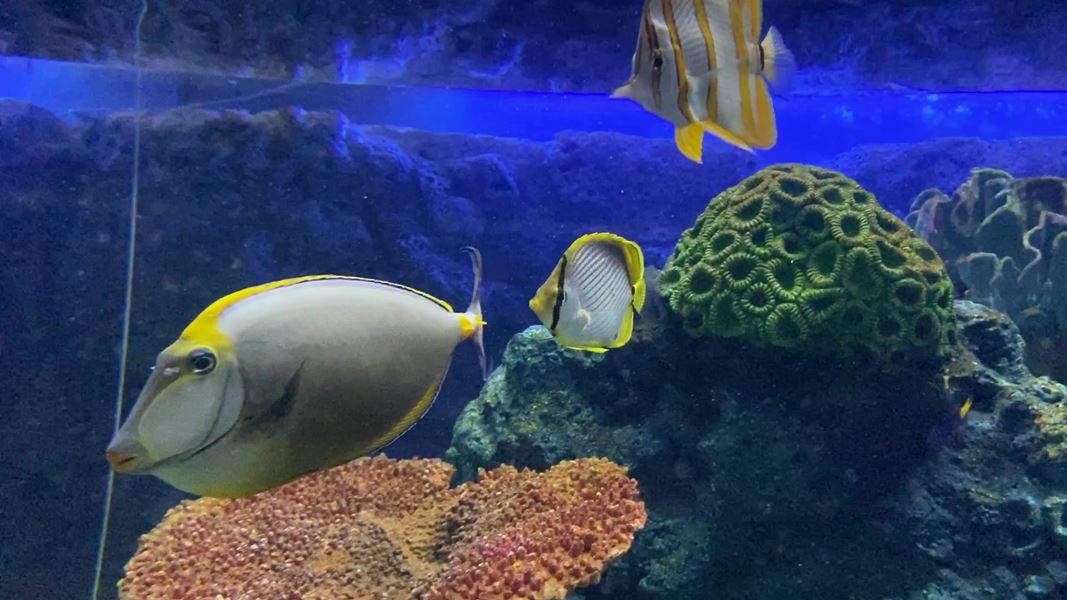Black-backed butterflyfish: (520, 225, 670, 363)
